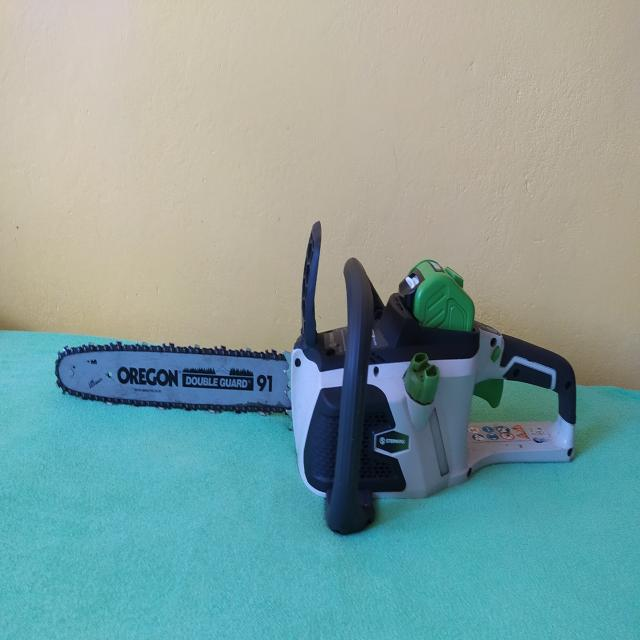pila: (47, 196, 590, 543)
